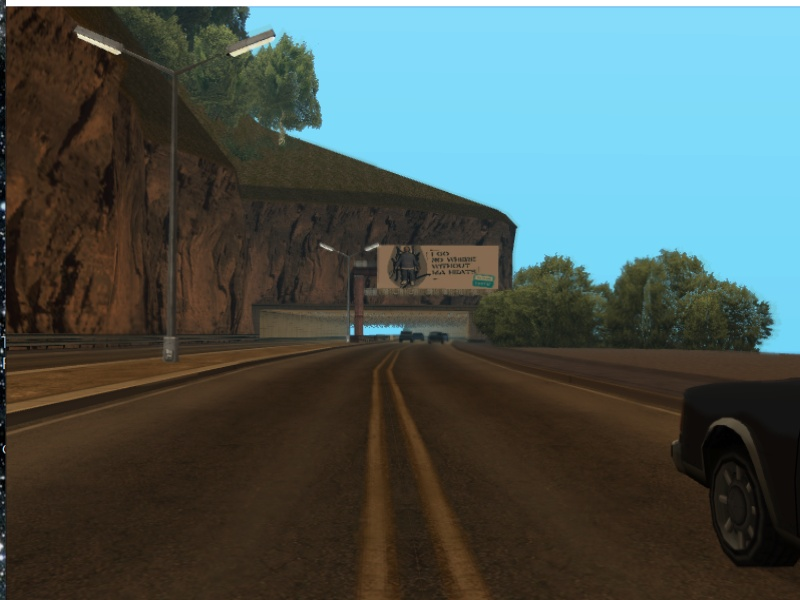pole: (158, 67, 189, 358), (342, 253, 354, 351)
vehicle: (426, 329, 445, 346), (396, 327, 414, 344)
